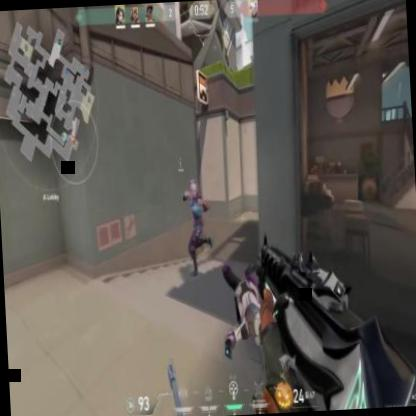enemy: (180, 178, 214, 277)
enemy_head: (190, 181, 197, 198)
